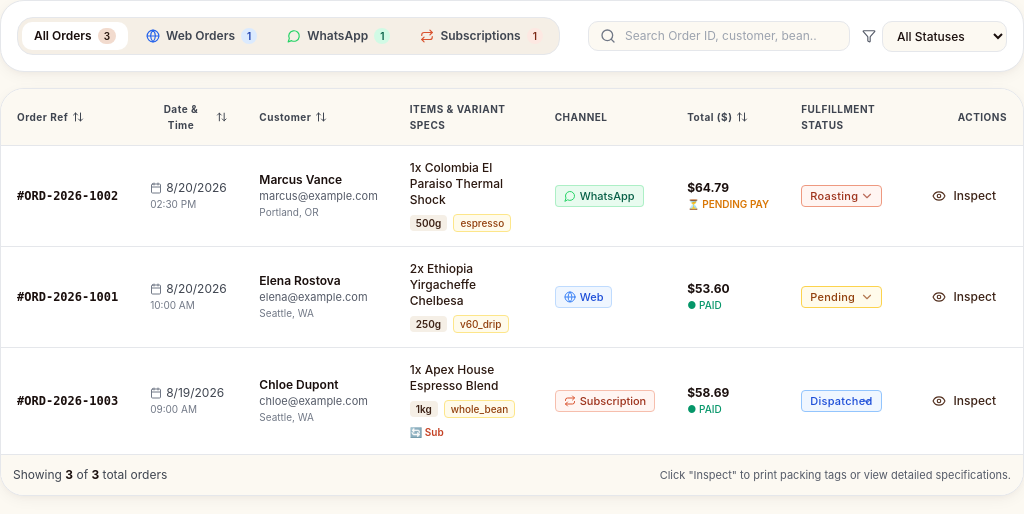
Test case: Admin UI Components — Unit Tests › OrderTable › filters orders by search query across customer name, email, or bean name
Type "Chelbesa" into the field with placeholder "Search Order ID, customer, bean..." at (719, 36), box x1=588 y1=21 x2=850 y2=51
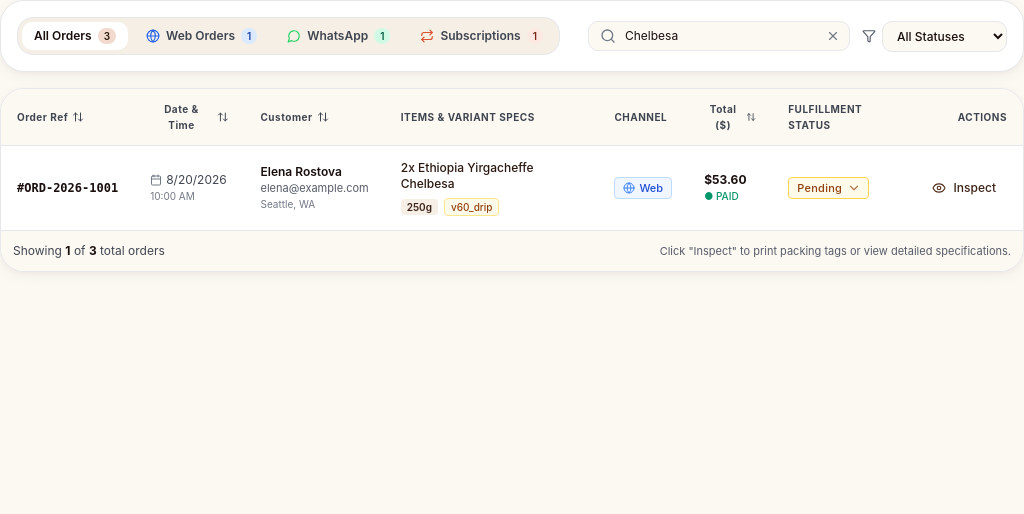
Check: the row with test id "order-row-ORD-2026-1001" is shown, box x1=1 y1=146 x2=1023 y2=230
Check: the row with test id "order-row-ORD-2026-1002" is gone
Check: the row with test id "order-row-ORD-2026-1003" is gone
